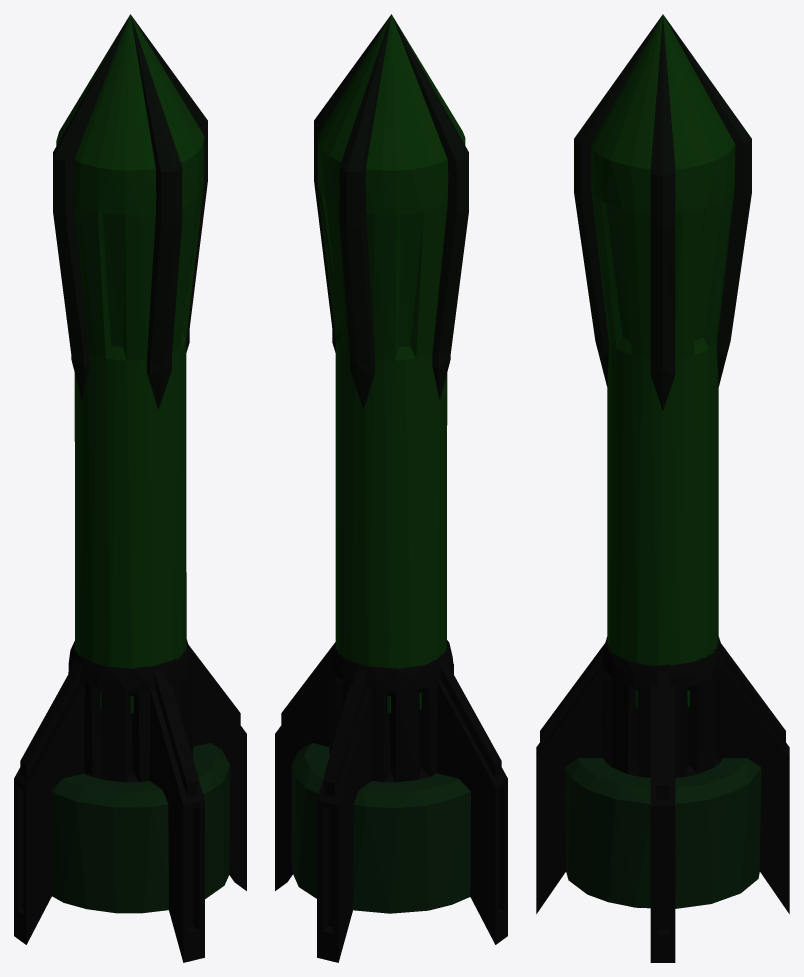
Rendered from lowpoly.obj.
3 views of the same model, side by side, from view 1: azimuth 30°, elevation 25°; view 2: azimuth 150°, elevation 25°; view 3: azimuth 270°, elevation 25° (orthographic).
Visible parts, largest first — view 1: Cube.004_Cube.001; view 2: Cube.004_Cube.001; view 3: Cube.004_Cube.001.
Boxes of the visible parts, bbox=[...] form: Cube.004_Cube.001: bbox=[14, 14, 246, 962]; Cube.004_Cube.001: bbox=[275, 14, 507, 962]; Cube.004_Cube.001: bbox=[536, 14, 789, 962].
Bounding box in the file's own units: 1.02 × 4 × 1.02.
